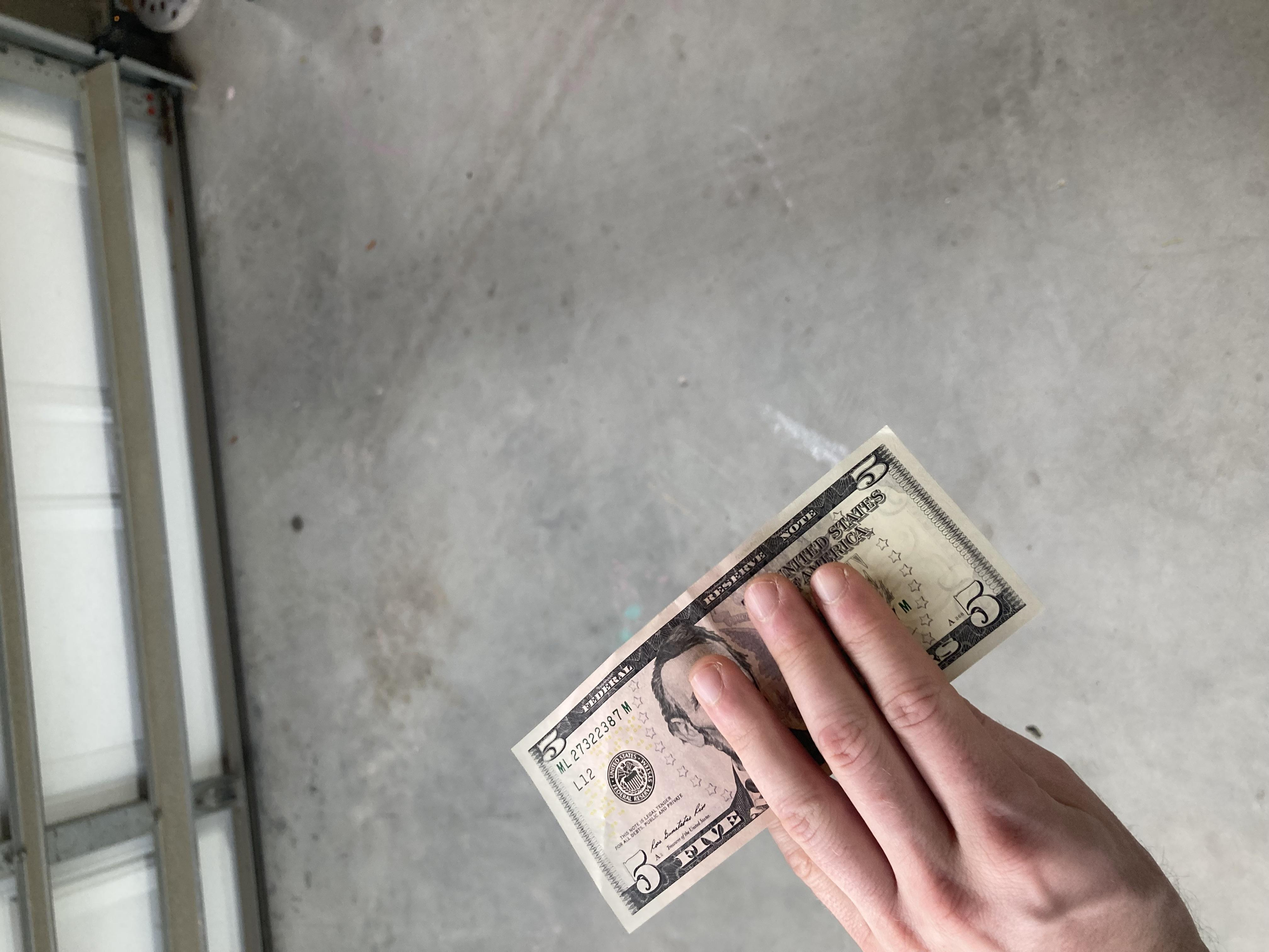five-front: (25, 381, 711, 789)
